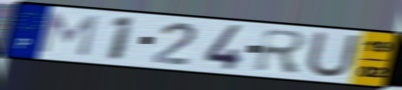1: (109, 15, 135, 63)
2: (150, 21, 200, 67)
4: (202, 22, 245, 72)
M: (35, 11, 101, 59)
R: (252, 27, 311, 75)
U: (302, 30, 363, 81)
